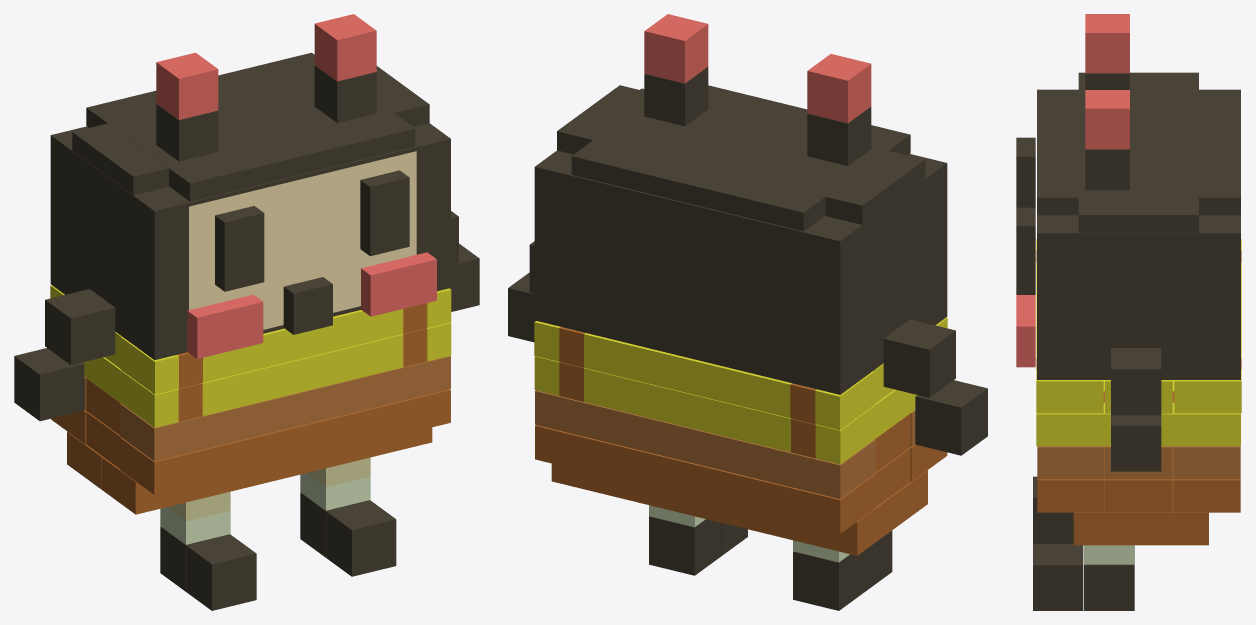
Rendered from level_18.fbx.
3 views of the same model, side by side, from view 1: azimuth 30°, elevation 25°; view 2: azimuth 150°, elevation 25°; view 3: azimuth 270°, elevation 25° (orthographic). The views are drawn at different scales.
Visible parts, largest first — view 1: Cube.055, Cube.056, Cube.050, Cube.040, Cube.044, Cube.051, Cube.048, Cube.070, Cube.073, Cube.077, Cube.076, Cube.058 (+19 smaller); view 2: Cube.055, Cube.056, Cube.050, Cube.052, Cube.042, Cube.046, Cube.049, Cube.077, Cube.076, Cube.058, Cube.060, Cube.062 (+11 smaller); view 3: Cube.055, Cube.056, Cube.050, Cube.057, Cube.074, Cube.073, Cube.075, Cube.060, Cube.062, Cube.051, Cube.052, Cube.049 (+17 smaller).
Boxes of the visible parts, x1,y1,x2,y2 form: Cube.055: (50,123,450,360); Cube.056: (86,52,415,201); Cube.050: (83,322,451,427); Cube.040: (120,389,450,494); Cube.044: (120,356,450,461); Cube.051: (120,288,451,394); Cube.048: (101,427,432,514); Cube.070: (186,534,256,610); Cube.073: (326,500,396,576); Cube.077: (45,289,115,364); Cube.076: (14,348,84,421); Cube.058: (72,123,168,195); Cube.055: (534,88,947,394); Cube.056: (571,85,910,231); Cube.050: (534,356,916,464); Cube.052: (534,321,875,430); Cube.042: (535,425,875,533); Cube.046: (535,390,875,498); Cube.049: (551,463,892,555); Cube.077: (883,319,955,397); Cube.076: (915,380,987,455); Cube.058: (825,151,925,224); Cube.060: (644,14,708,83); Cube.062: (807,54,871,123); Cube.055: (1037,215,1240,379); Cube.056: (1037,89,1240,215); Cube.050: (1036,380,1240,446); Cube.057: (1078,197,1198,232); Cube.074: (1111,348,1161,415); Cube.073: (1033,544,1083,610); Cube.075: (1111,415,1161,471); Cube.060: (1085,90,1129,149); Cube.062: (1085,14,1129,73); Cube.051: (1036,239,1103,413); Cube.052: (1174,239,1241,413); Cube.049: (1141,446,1208,545).
Bounding box in the file's own units: 10.97 × 12.25 × 4.95.
